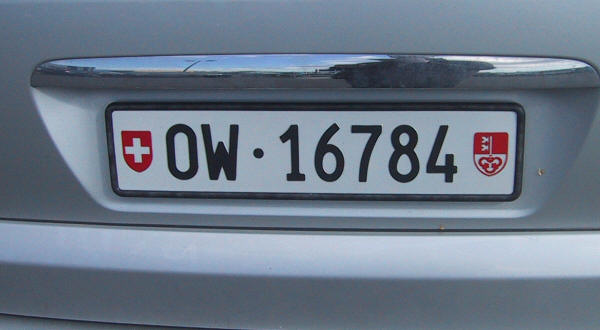license_plate: (105, 103, 524, 201)
